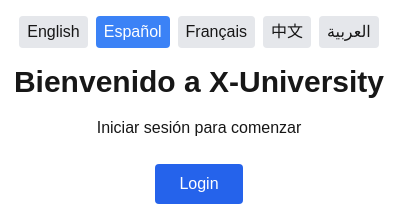
Scenario: UnauthHome › switches to French when Français button is clicked
This screenshot has width=401, height=221.
Click the button "Français" at point(216, 32), box left=178, top=16, right=255, bottom=48
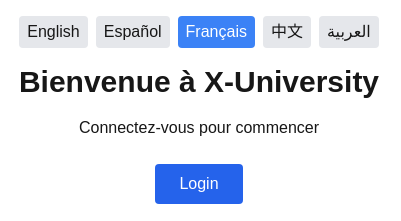
Check: the heading "Bienvenue à X‑University" is shown, box left=19, top=64, right=379, bottom=100
Check: the text "Connectez-vous pour commencer" is shown, box left=79, top=116, right=319, bottom=140
